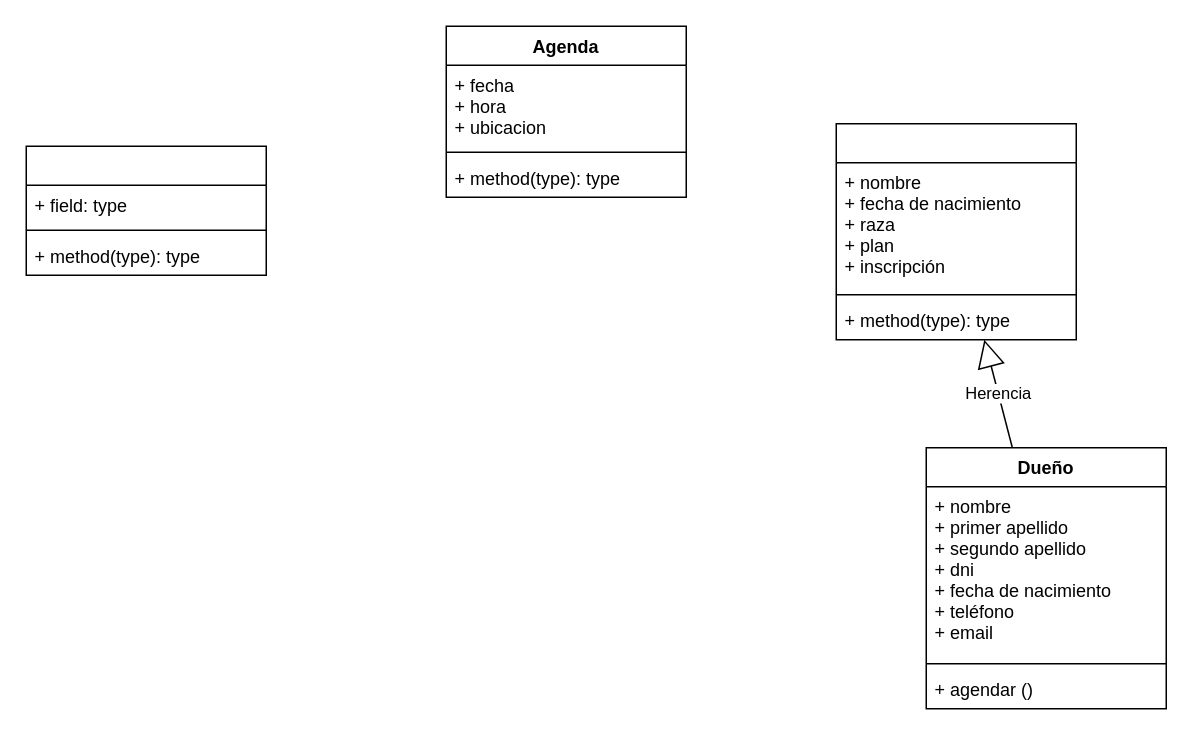
Some shapes in this 1193 by 740 pixel diagram are drawn without their labels. Here are the shapes that lost their labels. From the top down, the box of each, then its label:
(25, 145, 266, 275): Consultas
(835, 122, 1076, 340): Mascotas
